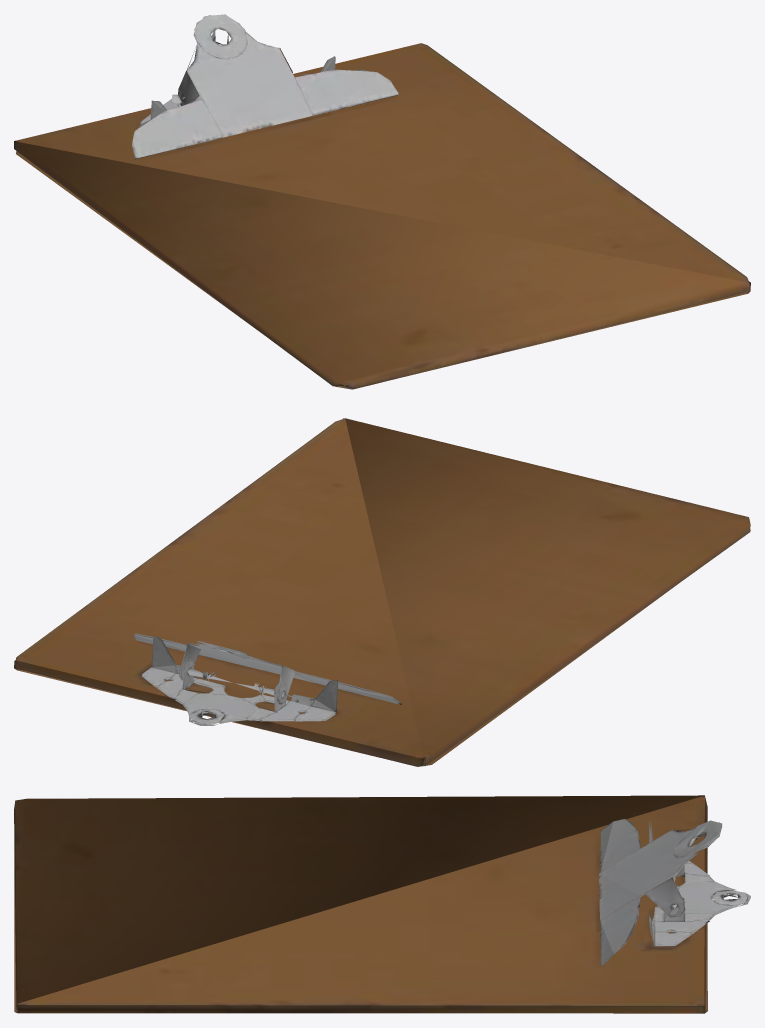
Rendered from clipboard.glb.
3 renders of one model, top to bottom at view 1: azimuth 30°, elevation 25°; view 2: azimuth 150°, elevation 25°; view 3: azimuth 270°, elevation 25°, orthographic. The views are drawn at different scales.
Visible parts, largest first — view 1: clipboard; view 2: clipboard; view 3: clipboard.
Part boxes in pixels (left/top/right/bottom): clipboard: left=14, top=14, right=750, bottom=389; clipboard: left=14, top=418, right=750, bottom=766; clipboard: left=14, top=795, right=750, bottom=1013.
Bounding box in the file's own units: 0.2279 × 0.0421 × 0.3361.
Materials: 1 (1 with a texture image).
